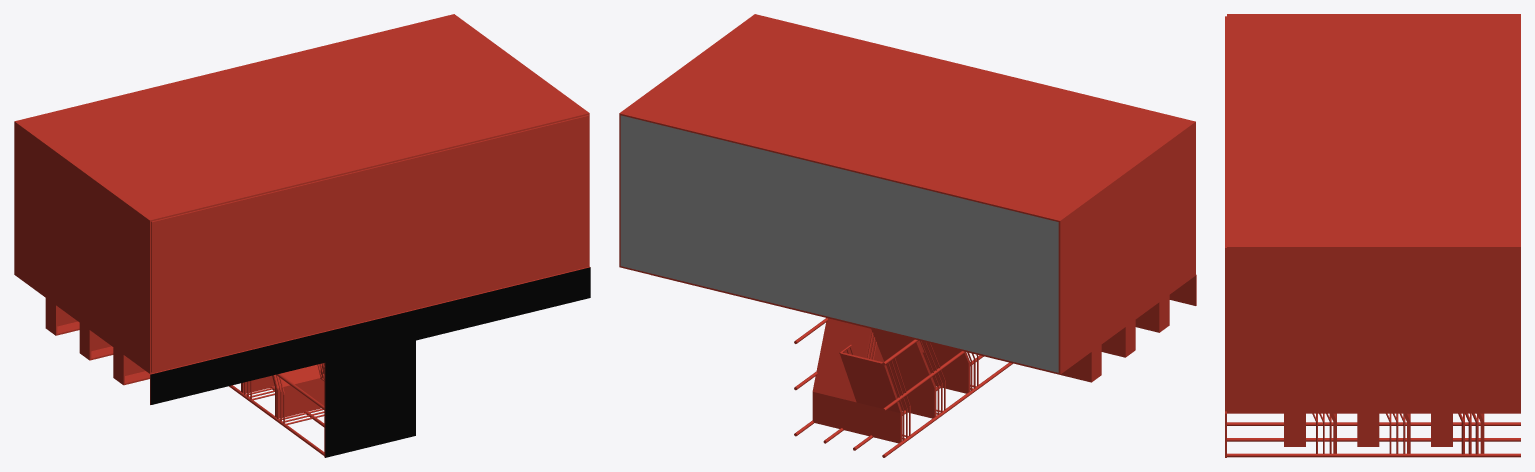
File: Edificio C.fbx
The picture shows the model from 3 angles, left to right: view 1: azimuth 30°, elevation 25°; view 2: azimuth 150°, elevation 25°; view 3: azimuth 270°, elevation 25°; orthographic projection. The views are drawn at different scales.
Parts seen in each view (by area): view 1: Body25; view 2: Body25, Body43; view 3: Body25.
Part boxes in pixels (left/top/right/bottom): Body25: left=14, top=14, right=590, bottom=457; Body25: left=619, top=14, right=1196, bottom=457; Body43: left=620, top=115, right=1058, bottom=372; Body25: left=1225, top=14, right=1520, bottom=457.
Size of the model in its own units: 30 by 18.21 by 16.1.
